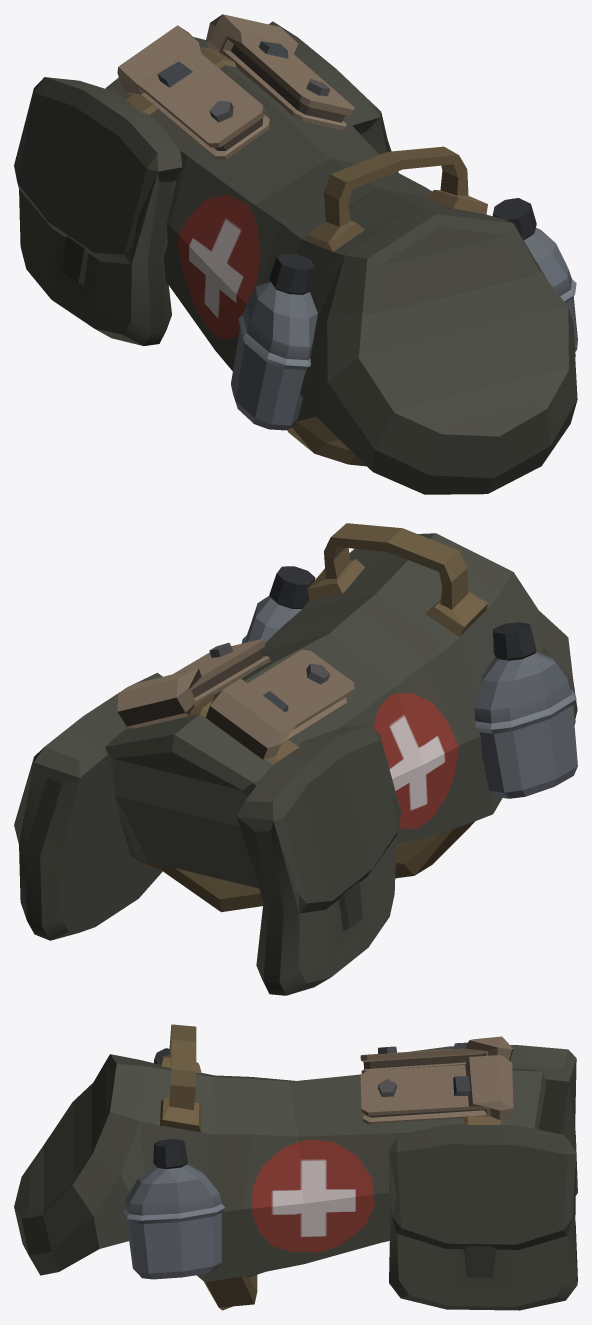
The model's file is SK_Chr_Attach_Vest_War_Small_01.fbx.
The picture shows the model from 3 angles, top to bottom: view 1: azimuth 30°, elevation 25°; view 2: azimuth 150°, elevation 25°; view 3: azimuth 270°, elevation 25°; orthographic projection. The views are drawn at different scales.
Parts seen in each view (by area): view 1: SK_Chr_Attach_Vest_War_Small_01; view 2: SK_Chr_Attach_Vest_War_Small_01; view 3: SK_Chr_Attach_Vest_War_Small_01.
Part boxes in pixels (left/top/right/bottom): SK_Chr_Attach_Vest_War_Small_01: left=14, top=14, right=577, bottom=494; SK_Chr_Attach_Vest_War_Small_01: left=14, top=523, right=577, bottom=995; SK_Chr_Attach_Vest_War_Small_01: left=14, top=1024, right=577, bottom=1310.
Size of the model in its own units: 42.57 by 41.64 by 79.17.
